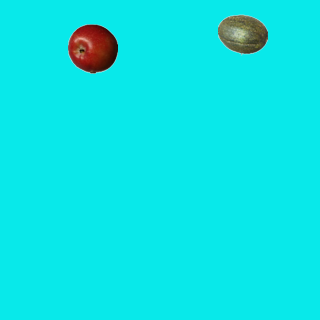Apple Braeburn: (67, 23, 117, 73)
Melon Piel de Sapo: (217, 9, 267, 59)
